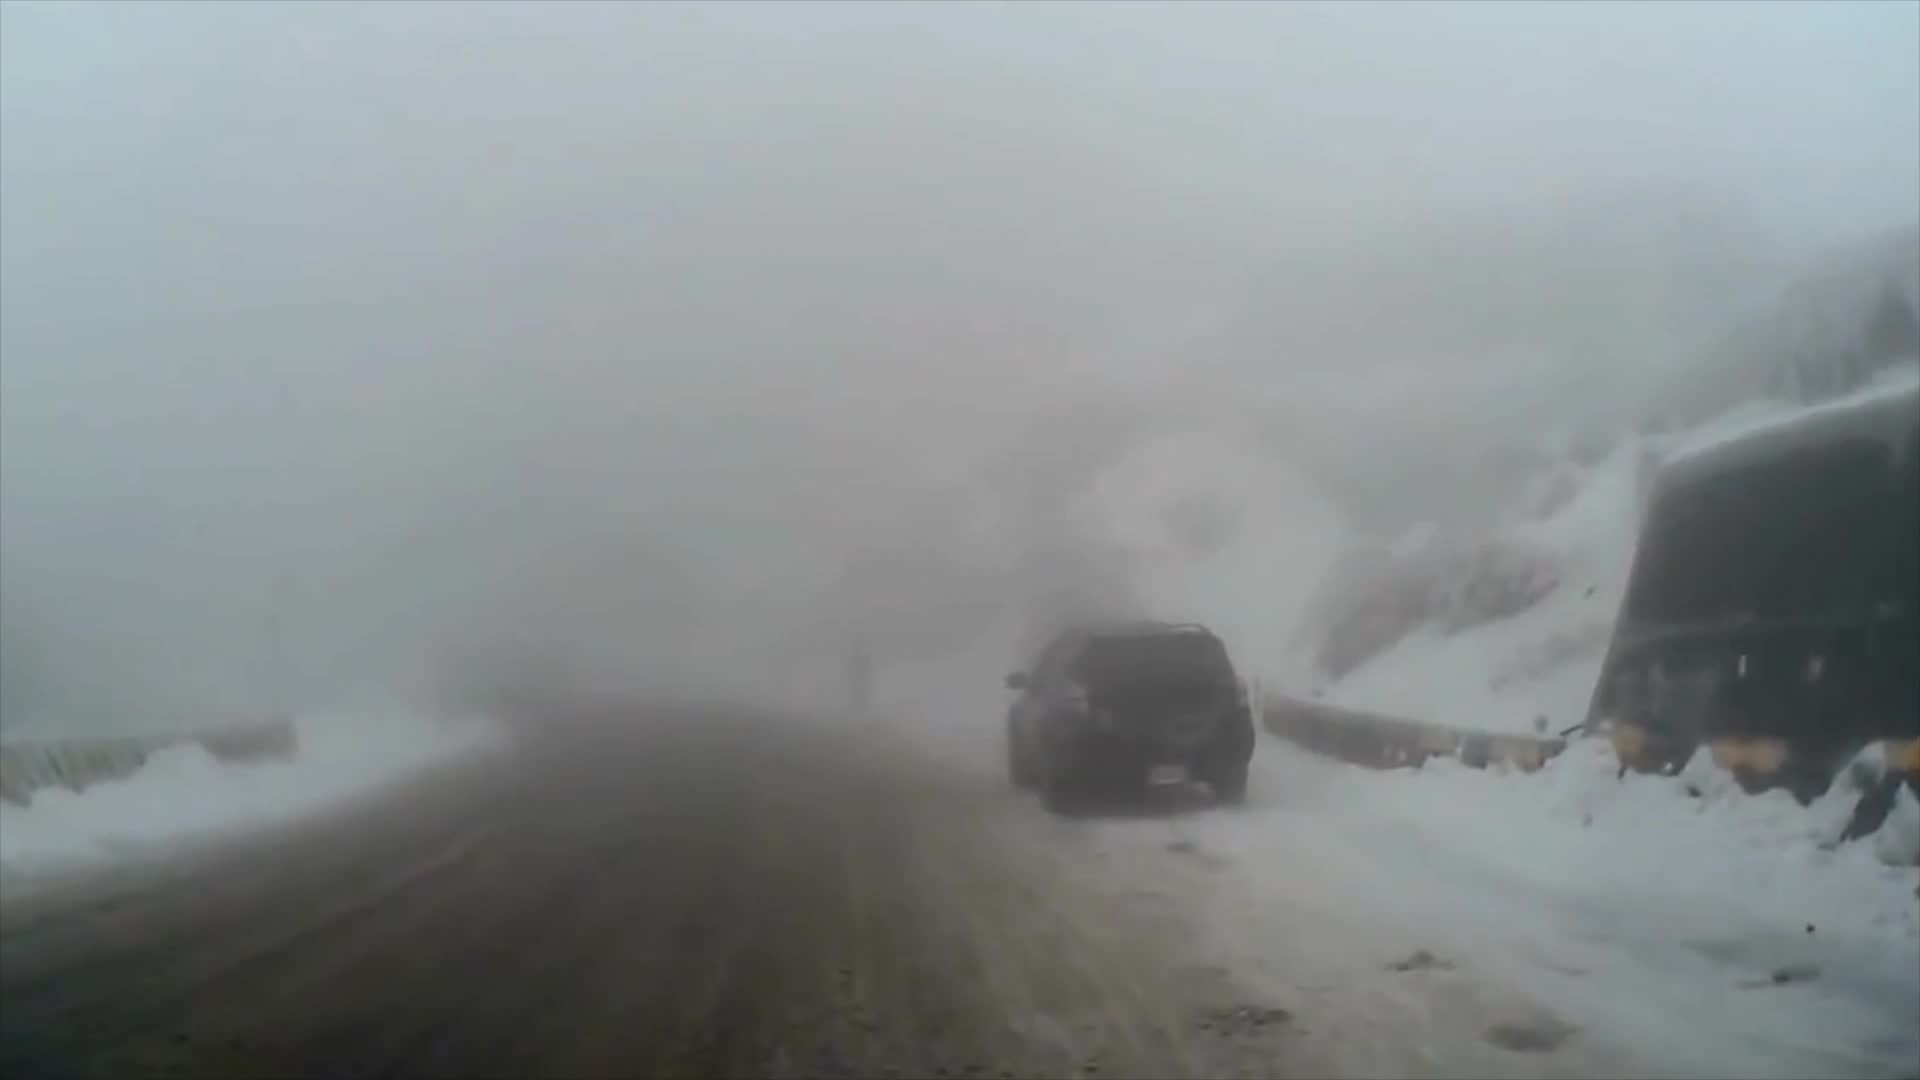vehicle: (1000, 616, 1255, 816)
